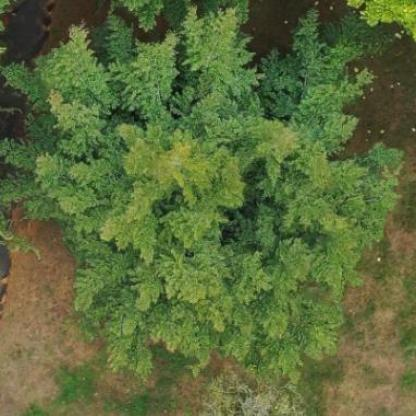Coniferous Tree: (7, 0, 410, 381)
